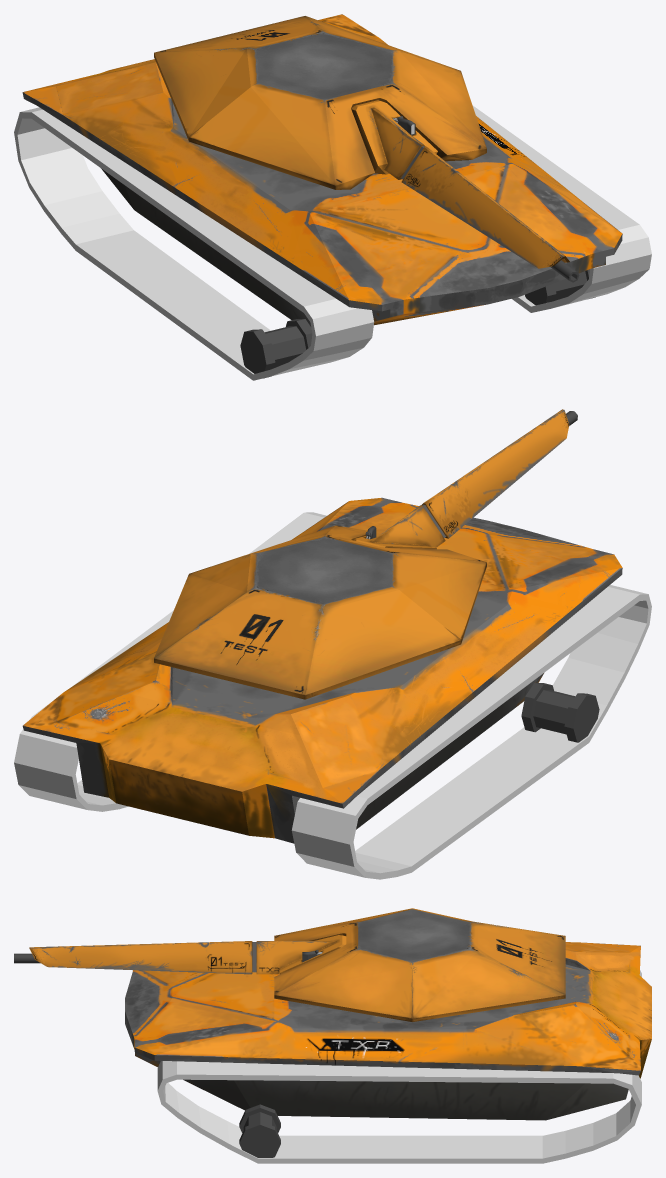
Rendered from test_tank-fin.fbx.
3 renders of one model, top to bottom at view 1: azimuth 30°, elevation 25°; view 2: azimuth 150°, elevation 25°; view 3: azimuth 270°, elevation 25°, orthographic. The views are drawn at different scales.
Parts seen in each view (by area): view 1: Cube, Cube.003, gun, Cylinder.002; view 2: Cube, Cube.003, gun, Cylinder.002; view 3: Cube, Cube.003, gun, Cylinder.002.
Part boxes in pixels (box(x1,y1,x2,y2)): Cube: box(22, 14, 622, 326); Cube.003: box(14, 105, 651, 380); gun: box(351, 100, 569, 268); Cylinder.002: box(240, 269, 595, 378); Cube: box(22, 497, 622, 843); Cube.003: box(14, 512, 651, 879); gun: box(353, 409, 569, 548); Cylinder.002: box(521, 683, 599, 742); Cube: box(125, 908, 651, 1120); Cube.003: box(157, 970, 641, 1163); gun: box(29, 935, 346, 974); Cylinder.002: box(239, 1104, 280, 1157).
Bounding box in the file's own units: 210 × 121 × 431.
